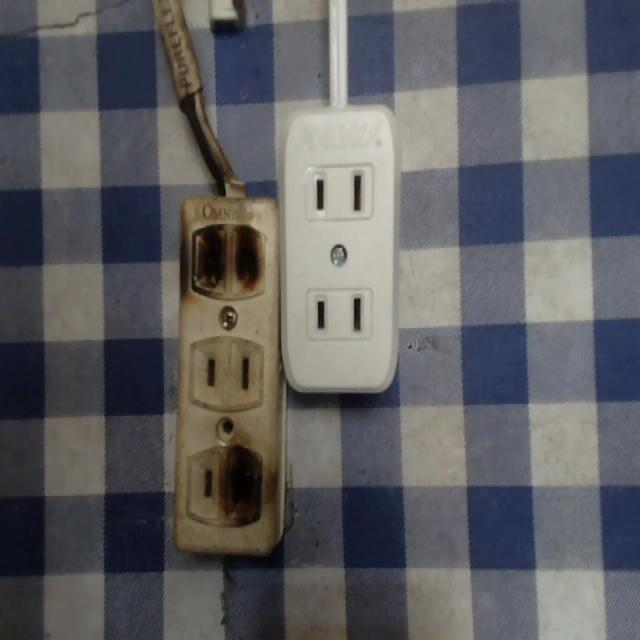-: (185, 217, 271, 300), (220, 444, 269, 520)
